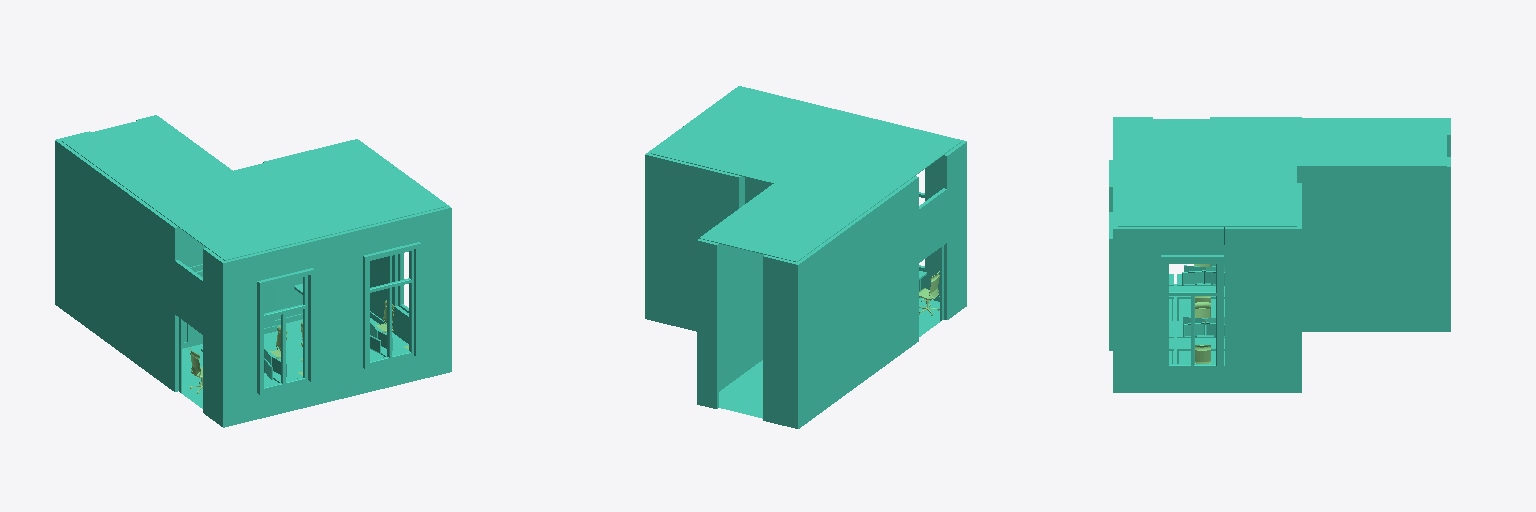
Rendered from KleineZaal.obj.
3 views of the same model, side by side, from view 1: azimuth 30°, elevation 25°; view 2: azimuth 150°, elevation 25°; view 3: azimuth 270°, elevation 25° (orthographic).
Visible parts, largest first — view 1: Wall_Main, Ceiling, Rectangle014, Floor, RaamKozijn003, wall_upper_005, wall_upper_003, wall_upper_002, Rectangle011, Rectangle010, Raam003, Raam002 (+3 smaller); view 2: Rectangle014, Ceiling, Wall_Main, Floor, wall_upper_005; view 3: Ceiling, Rectangle014, Wall_Main, wall_upper_01, Raam01, Rectangle009, RaamKozijn01, Floor, Rectangle021.
Boxes of the visible parts, x1=… form: Wall_Main: x1=129, y1=139, x2=451, y2=427; Ceiling: x1=61, y1=116, x2=445, y2=260; Rectangle014: x1=55, y1=115, x2=156, y2=357; Floor: x1=181, y1=318, x2=408, y2=408; RaamKozijn003: x1=257, y1=268, x2=313, y2=394; wall_upper_005: x1=175, y1=260, x2=202, y2=334; wall_upper_003: x1=255, y1=240, x2=311, y2=280; wall_upper_002: x1=361, y1=216, x2=417, y2=255; Rectangle011: x1=257, y1=380, x2=311, y2=418; Rectangle010: x1=363, y1=355, x2=417, y2=393; Raam003: x1=263, y1=275, x2=307, y2=391; Raam002: x1=370, y1=249, x2=413, y2=365; Rectangle014: x1=697, y1=209, x2=872, y2=428; Ceiling: x1=651, y1=88, x2=960, y2=261; Wall_Main: x1=645, y1=86, x2=966, y2=374; Floor: x1=719, y1=298, x2=940, y2=418; wall_upper_005: x1=919, y1=188, x2=946, y2=262; Ceiling: x1=1118, y1=119, x2=1446, y2=226; Rectangle014: x1=1302, y1=118, x2=1450, y2=331; Wall_Main: x1=1113, y1=117, x2=1301, y2=392; wall_upper_01: x1=1161, y1=227, x2=1223, y2=254; Raam01: x1=1165, y1=261, x2=1219, y2=368; Rectangle009: x1=1161, y1=364, x2=1224, y2=392; RaamKozijn01: x1=1161, y1=255, x2=1223, y2=368; Floor: x1=1169, y1=284, x2=1224, y2=363; Rectangle021: x1=1169, y1=325, x2=1224, y2=350.
Size of the model in its own units: 739 by 502 by 943.